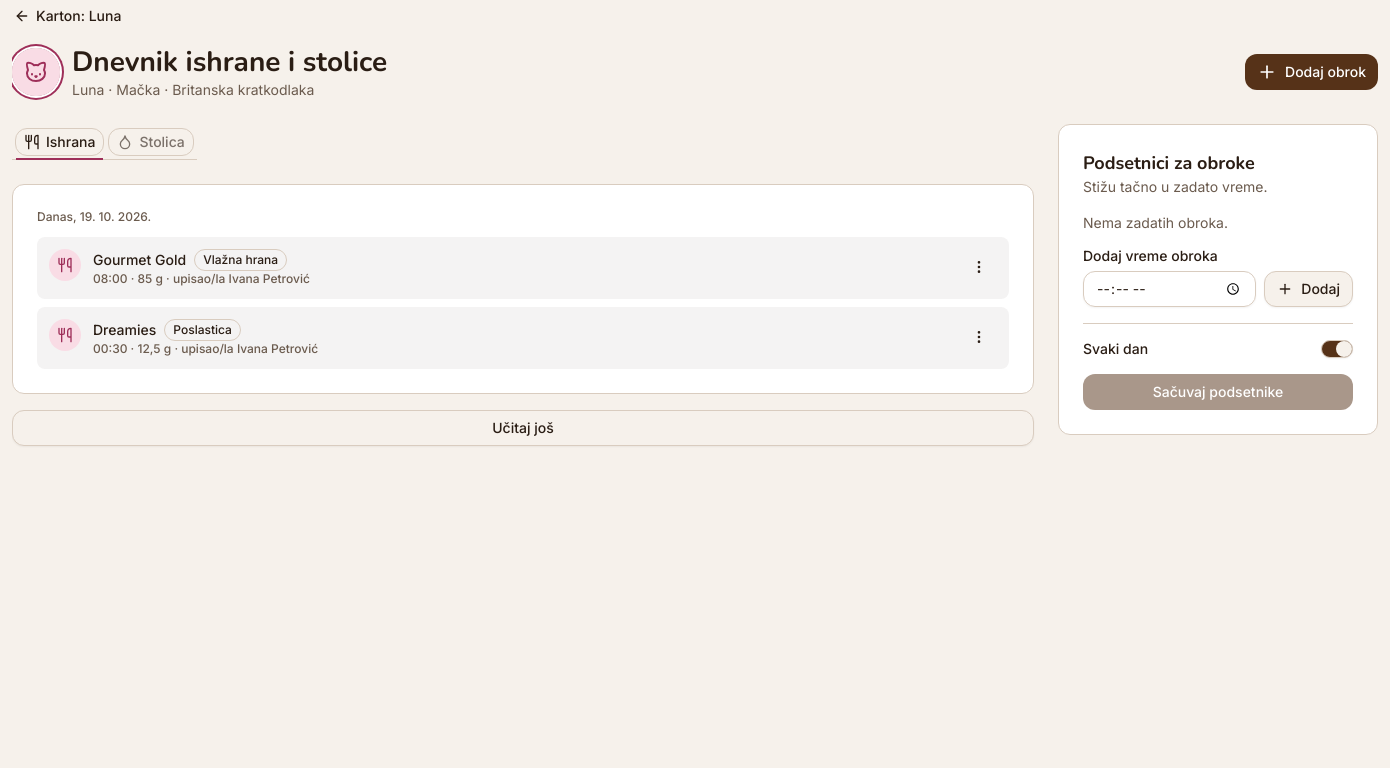
Test: S07 care log — lists (EP-17) › “Učitaj još” loads the next page from the current offset and disappears when all are shown
The image size is (1390, 768).
Click the button "Učitaj još". click: x=523, y=428
box: [12,410,1034,446]
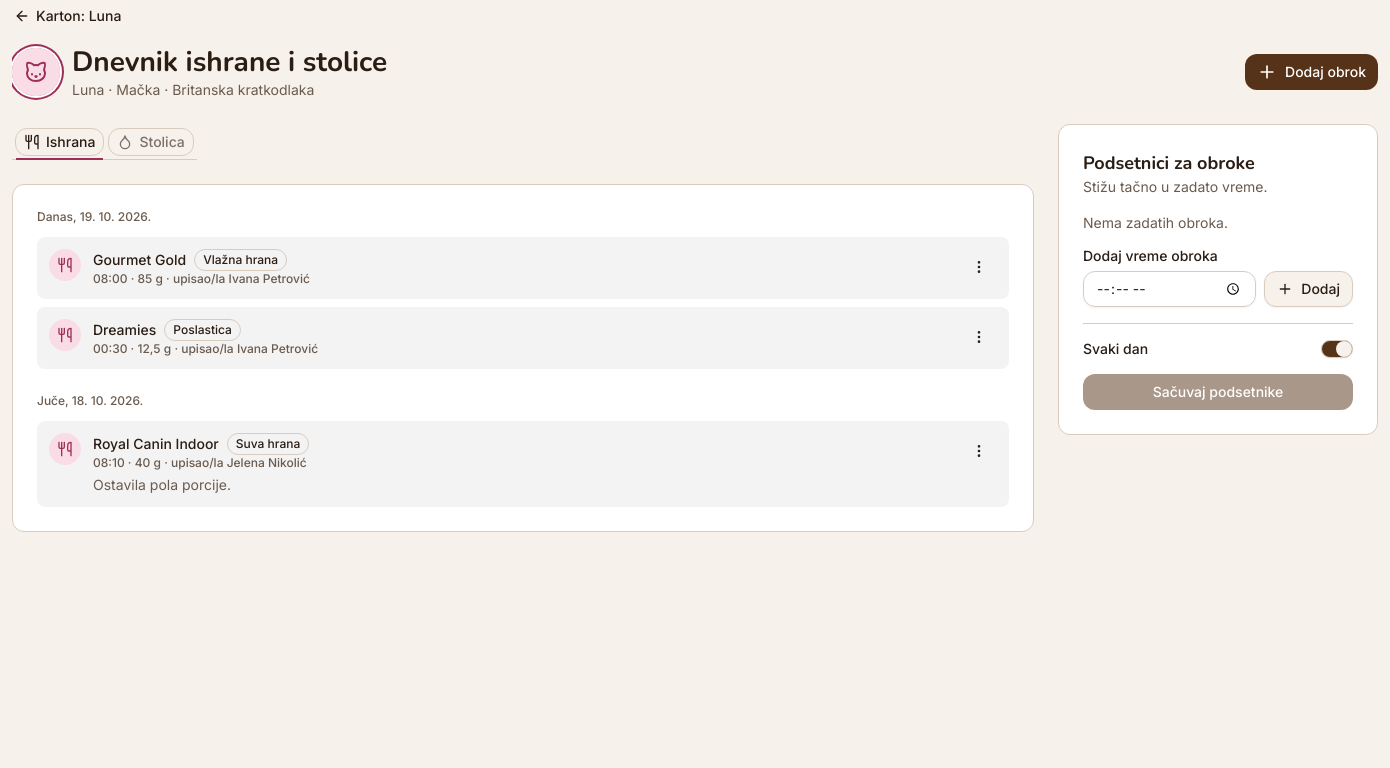
Expected: the text "Ostavila pola porcije." is shown, [93,476,231,493]
Expected: the button "Učitaj još" is gone
